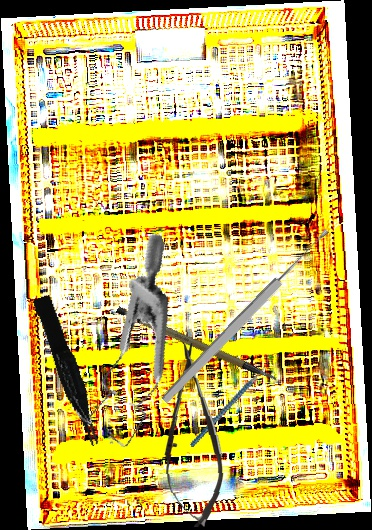Chopper: (169, 353, 291, 448)
Micro Scissor: (157, 342, 227, 529)
Scalpel Handle: (114, 286, 278, 406)
Speculum: (33, 231, 218, 460)
Surgical Spoon: (158, 226, 334, 406)
Tissue Forceps: (32, 292, 103, 451)
